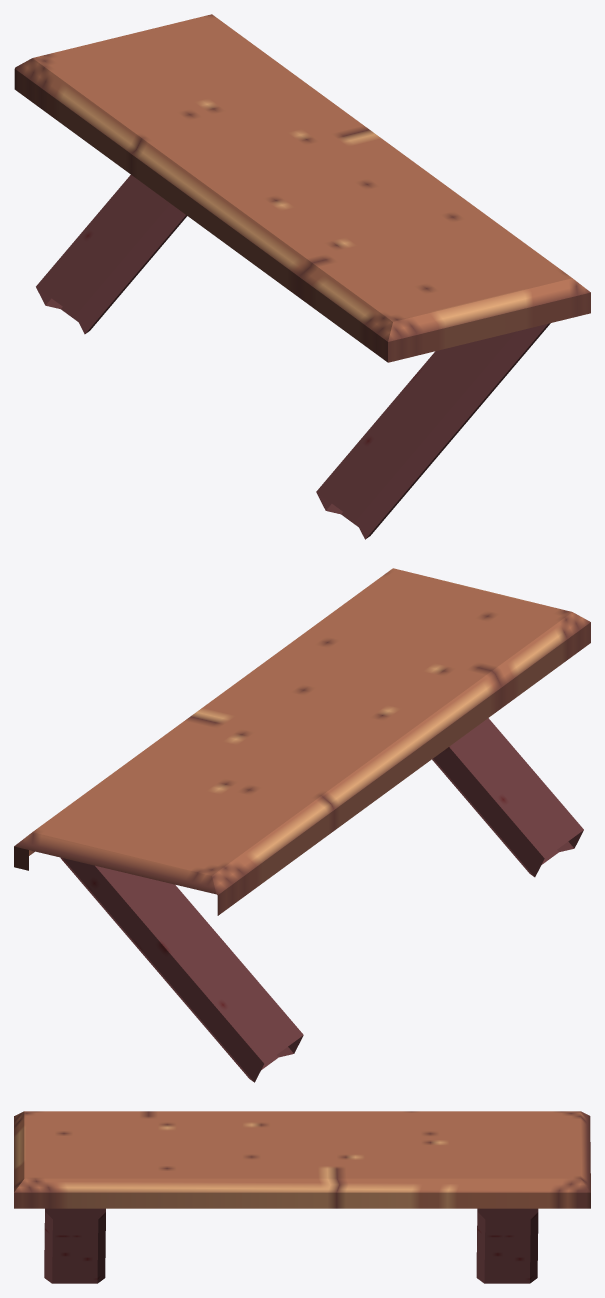
Rendered from Prateleira.fbx.
The picture shows the model from 3 angles, top to bottom: view 1: azimuth 30°, elevation 25°; view 2: azimuth 150°, elevation 25°; view 3: azimuth 270°, elevation 25°; orthographic projection. The views are drawn at different scales.
Visible parts, largest first — view 1: Prateleira; view 2: Prateleira; view 3: Prateleira.
Part boxes in pixels (x1=…): Prateleira: x1=14, y1=14, x2=590, y2=539; Prateleira: x1=14, y1=568, x2=590, y2=1082; Prateleira: x1=14, y1=1111, x2=590, y2=1283.
Size of the model in its own units: 45.51 by 137 by 45.54.
